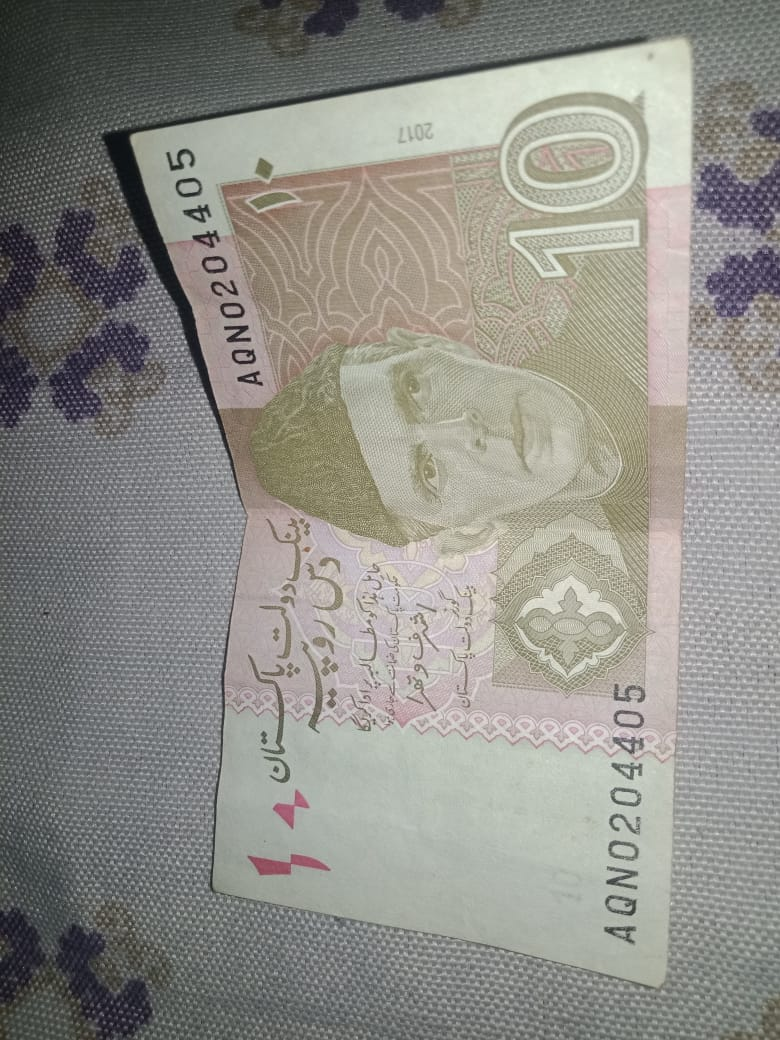10 rupee: (136, 29, 706, 1025)
